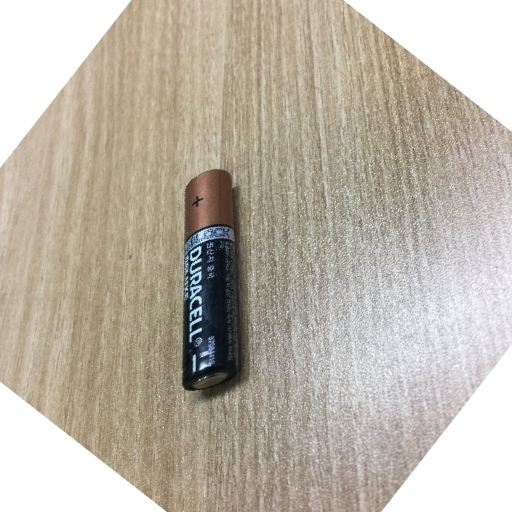Battery_0: (172, 157, 265, 412)
